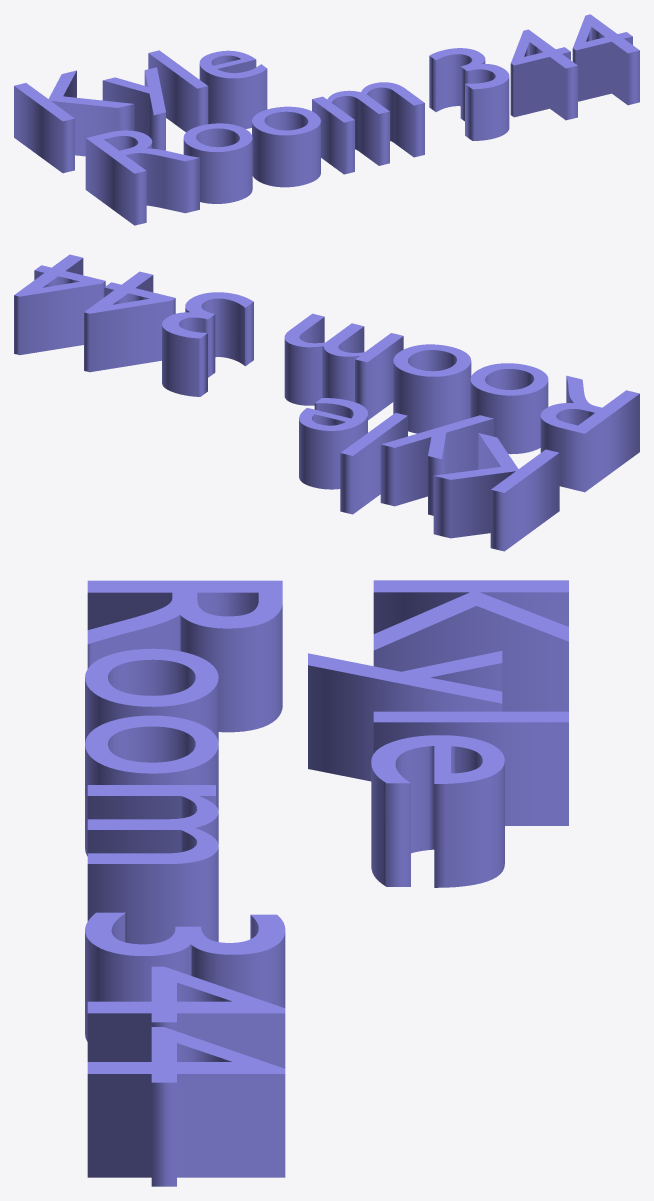
Rendered from kyle-344.gltf.
3 views of the same model, one above another, from view 1: azimuth 30°, elevation 25°; view 2: azimuth 150°, elevation 25°; view 3: azimuth 270°, elevation 25° (orthographic). The views are drawn at different scales.
Parts seen in each view (by area): view 1: Text; view 2: Text; view 3: Text.
Part boxes in pixels (bbox=[...]): Text: bbox=[14, 14, 639, 225]; Text: bbox=[14, 254, 639, 551]; Text: bbox=[85, 580, 568, 1186].
Bounding box in the file's own units: 4.15 × 0.4 × 1.69.
